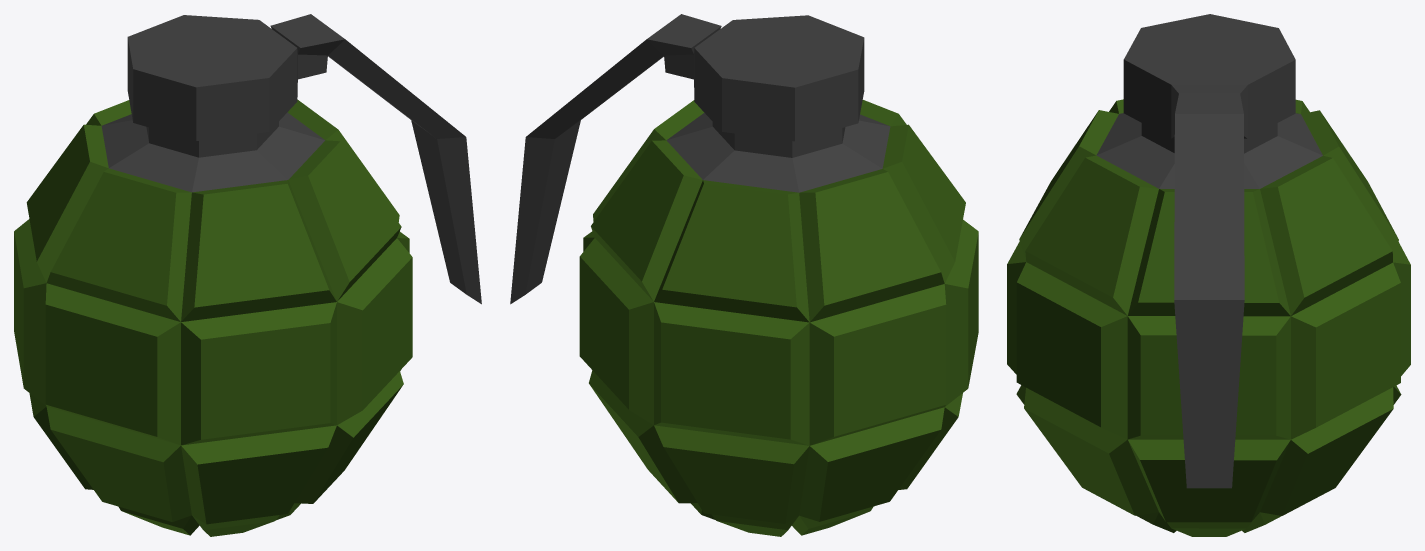
The model's file is Nade.fbx.
3 views of the same model, side by side, from view 1: azimuth 30°, elevation 25°; view 2: azimuth 150°, elevation 25°; view 3: azimuth 270°, elevation 25° (orthographic).
Visible parts, largest first — view 1: Sphere; view 2: Sphere; view 3: Sphere.
Part boxes in pixels (box(x1,y1,x2,y2)): Sphere: box(14, 14, 481, 536); Sphere: box(510, 14, 978, 536); Sphere: box(1007, 14, 1410, 536).
Bounding box in the file's own units: 255 × 257 × 204.
1 material, 1 textured.
